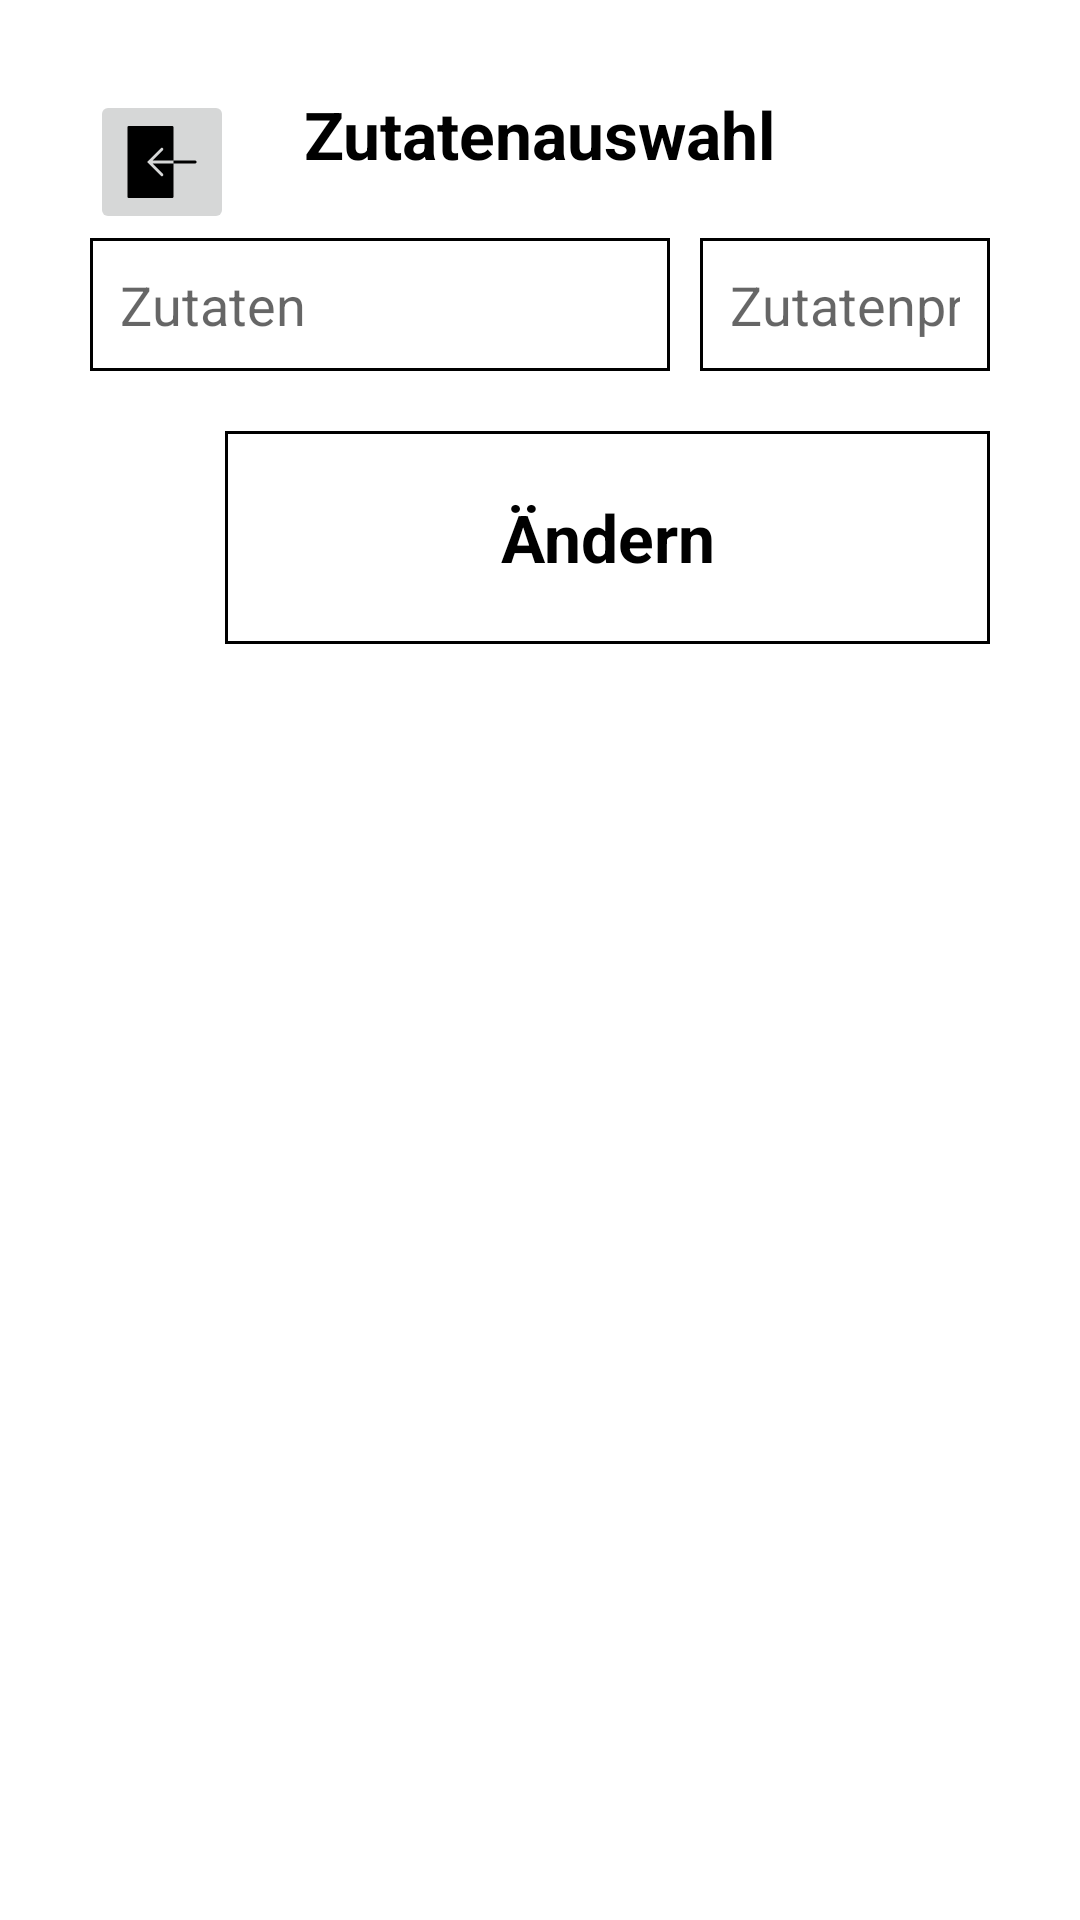

Icons on this 1080x1920 Android screen, each with the point to tap as (x=x, y=y):
resource import: (x=162, y=162)
